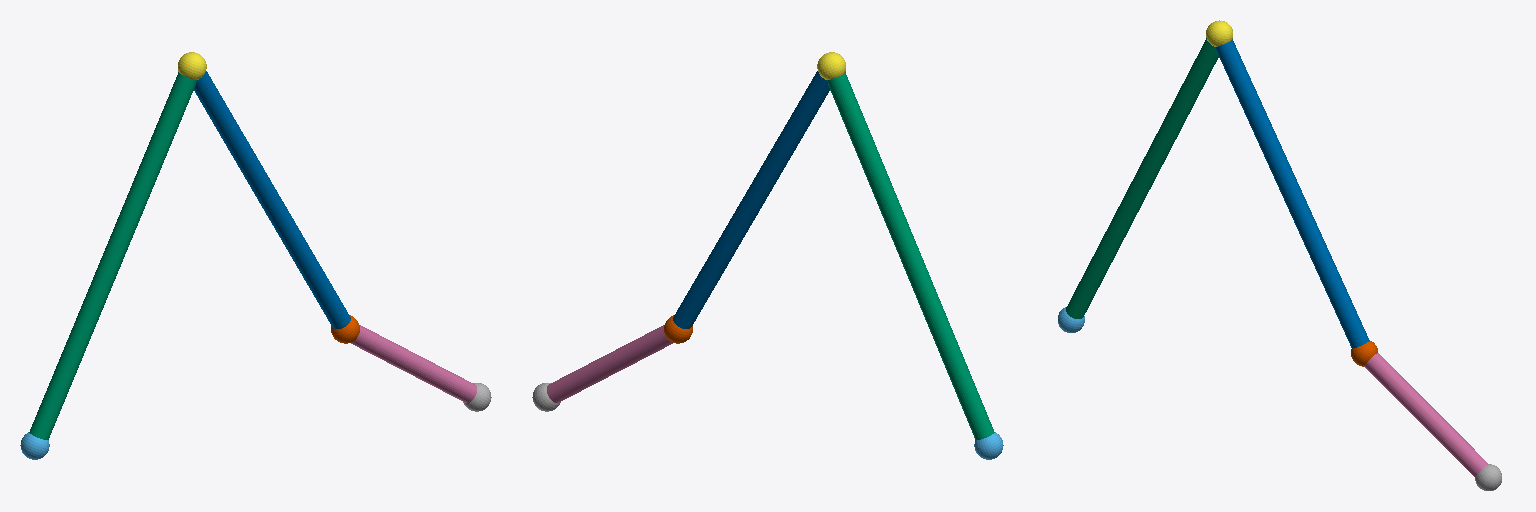
URDF robot description (ant_leg):
<?xml version="1.0"?>
<!-- Link Definitions -->
<robot name="ant_leg">
<link name="leg_base_link">
</link>

<!-- *********************************************************** -->
<!-- Leg -->
<!-- Link Definitions Leg-->

<link name="leg_base_ball">
    <visual>
        <origin xyz="0.0 0.0 0.0" rpy="0.0 0.0 0.0"/>
        <geometry>
            <sphere radius="0.07"/>
        </geometry>
    </visual>
</link>
<link name="leg_link_1">
    <visual>
    <origin xyz="0.0 0.0 1.0" rpy="0.0 0.0 0.0"/>
      <geometry>
        <cylinder radius="0.05" length="2.0"/>
      </geometry>
      <material name="blue"/>
    </visual>
  </link>
  <link name="leg_knee_ball">
    <visual>
        <origin xyz="0.0 0.0 0.0" rpy="0.0 0.0 0.0"/>
        <geometry>
            <sphere radius="0.07"/>
        </geometry>
    </visual>
</link>
  <link name="leg_link_2">
    <visual>
    <origin xyz="0.0 0.0 0.9" rpy="0.0 0.0 0.0"/>
      <geometry>
        <cylinder radius="0.05" length="1.8"/>
      </geometry>
    </visual>
  </link>

    <link name="leg_ankle_ball">
    <visual>
        <origin xyz="0.0 0.0 0.0" rpy="0.0 0.0 0.0"/>
        <geometry>
            <sphere radius="0.07"/>
        </geometry>
    </visual>
</link>
    <link name="leg_link_3">
    <visual>
    <origin xyz="0.0 0.0 0.45" rpy="0.0 0.0 0.0"/>
      <geometry>
        <cylinder length="0.9" radius="0.05"/>
      </geometry>
    </visual>
  </link>
  
   <link name="leg_tip_ball">
    <visual>
        <origin xyz="0.0 0.0 0.0" rpy="0.0 0.0 0.0"/>
        <geometry>
            <sphere radius="0.07"/>
        </geometry>
    </visual>
</link>
<!-- Joint Definition Left Antenna -->
<joint name="leg_base_yaw" type="revolute">
  <origin xyz="0.0 0.0 0.0" rpy="0.0 0.45 0.0"/>
  <parent link="leg_base_link"/>
  <child link="leg_base_ball"/>
  <axis xyz="1.0 0.0 0.0"/>
  <limit lower="-0.55" upper="0.55" effort="0.0" velocity="0.0"/>
</joint>
<joint name="leg_base_pitch" type="revolute">
    <origin xyz="0.0 0.0 0.0" rpy="0.0 0.0 0.0"/>
    <parent link="leg_base_ball"/>
    <child link="leg_link_1"/>
    <axis xyz="0.0 1.0 0.0"/>
    <limit lower="-0.4" upper="0.55" effort="0.0" velocity="0.0"/>
</joint>

<joint name="knee_visual" type="fixed">
    <origin xyz="0.0 0.0 2.0" rpy="0.0 0.0 0.0"/>
    <parent link="leg_link_1"/>
    <child link="leg_knee_ball"/>
</joint>

<joint name="leg_knee_joint" type="revolute">
    <origin xyz="0.0 0.0 0.0" rpy="0.0 2.2 0"/>
    <parent link="leg_knee_ball"/>
    <child link="leg_link_2"/>
    <axis xyz="0.0 1.0 0.0"/>
    <limit lower="-1.57" upper="0.374" effort="0.0" velocity="0.0"/>
</joint> 

<joint name="leg_ankle_visual" type="fixed">
    <origin xyz="0.0 0.0 1.8" rpy="0.0 0.0 0"/>
    <parent link="leg_link_2"/>
    <child link="leg_ankle_ball"/>
</joint> 

<joint name="leg_tip_joint" type="revolute">
  <origin xyz="0.0 0.0 0.0" rpy="0.0 -0.45 0.0"/>
  <axis xyz="0.0 1.0 0.0"/>
  <parent link="leg_ankle_ball"/>
  <child link="leg_link_3"/>  
  <limit lower="-0.3" upper="0.3" effort="0.0" velocity="0.0"/>
</joint>

<joint name="leg_tip_visual" type="fixed">
    <origin xyz="0.0 0.0 0.9" rpy="0.0 0.0 0"/>
    <parent link="leg_link_3"/>
    <child link="leg_tip_ball"/>
</joint> 

</robot>

--- What the picture shows (computed from the rendered views, not written in the file) ---
3 views of the same robot in one strip: view 1: azimuth 30°, elevation 25°; view 2: azimuth 150°, elevation 25°; view 3: azimuth 330°, elevation 25° (orthographic).
Model ant_leg with 8 links and 7 joints (4 revolute, 3 fixed), rooted at leg_base_link, posed every joint at zero.
Links seen in each view (by area): view 1: leg_link_1, leg_link_2, leg_link_3, leg_knee_ball, leg_base_ball; view 2: leg_link_1, leg_link_2, leg_link_3, leg_knee_ball, leg_base_ball; view 3: leg_link_2, leg_link_1, leg_link_3, leg_knee_ball, leg_tip_ball.
Link boxes in pixels (x1=…): leg_link_1: x1=29, y1=72, x2=196, y2=439; leg_link_2: x1=194, y1=71, x2=350, y2=328; leg_link_3: x1=351, y1=325, x2=476, y2=402; leg_knee_ball: x1=178, y1=52, x2=206, y2=79; leg_base_ball: x1=20, y1=432, x2=49, y2=459; leg_link_1: x1=827, y1=72, x2=994, y2=439; leg_link_2: x1=673, y1=71, x2=829, y2=328; leg_link_3: x1=547, y1=325, x2=672, y2=402; leg_knee_ball: x1=817, y1=52, x2=845, y2=79; leg_base_ball: x1=974, y1=432, x2=1003, y2=459; leg_link_2: x1=1216, y1=39, x2=1369, y2=348; leg_link_1: x1=1066, y1=38, x2=1218, y2=318; leg_link_3: x1=1364, y1=353, x2=1487, y2=476; leg_knee_ball: x1=1206, y1=20, x2=1232, y2=46; leg_tip_ball: x1=1475, y1=464, x2=1501, y2=490.
Size in the robot's own frame: 2.59 by 0.14 by 2.26 metres.
Geometry: primitives only (box / cylinder / sphere), no mesh files.